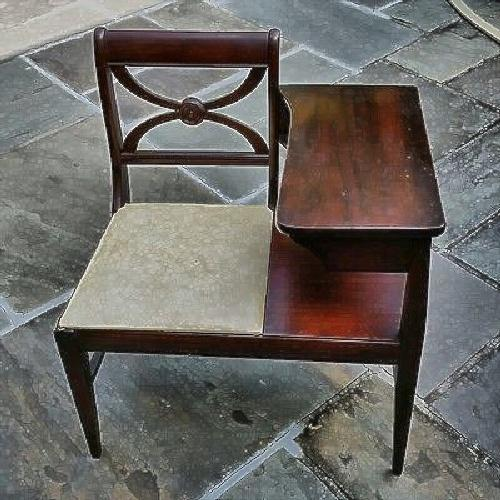chair: (80, 27, 428, 446)
